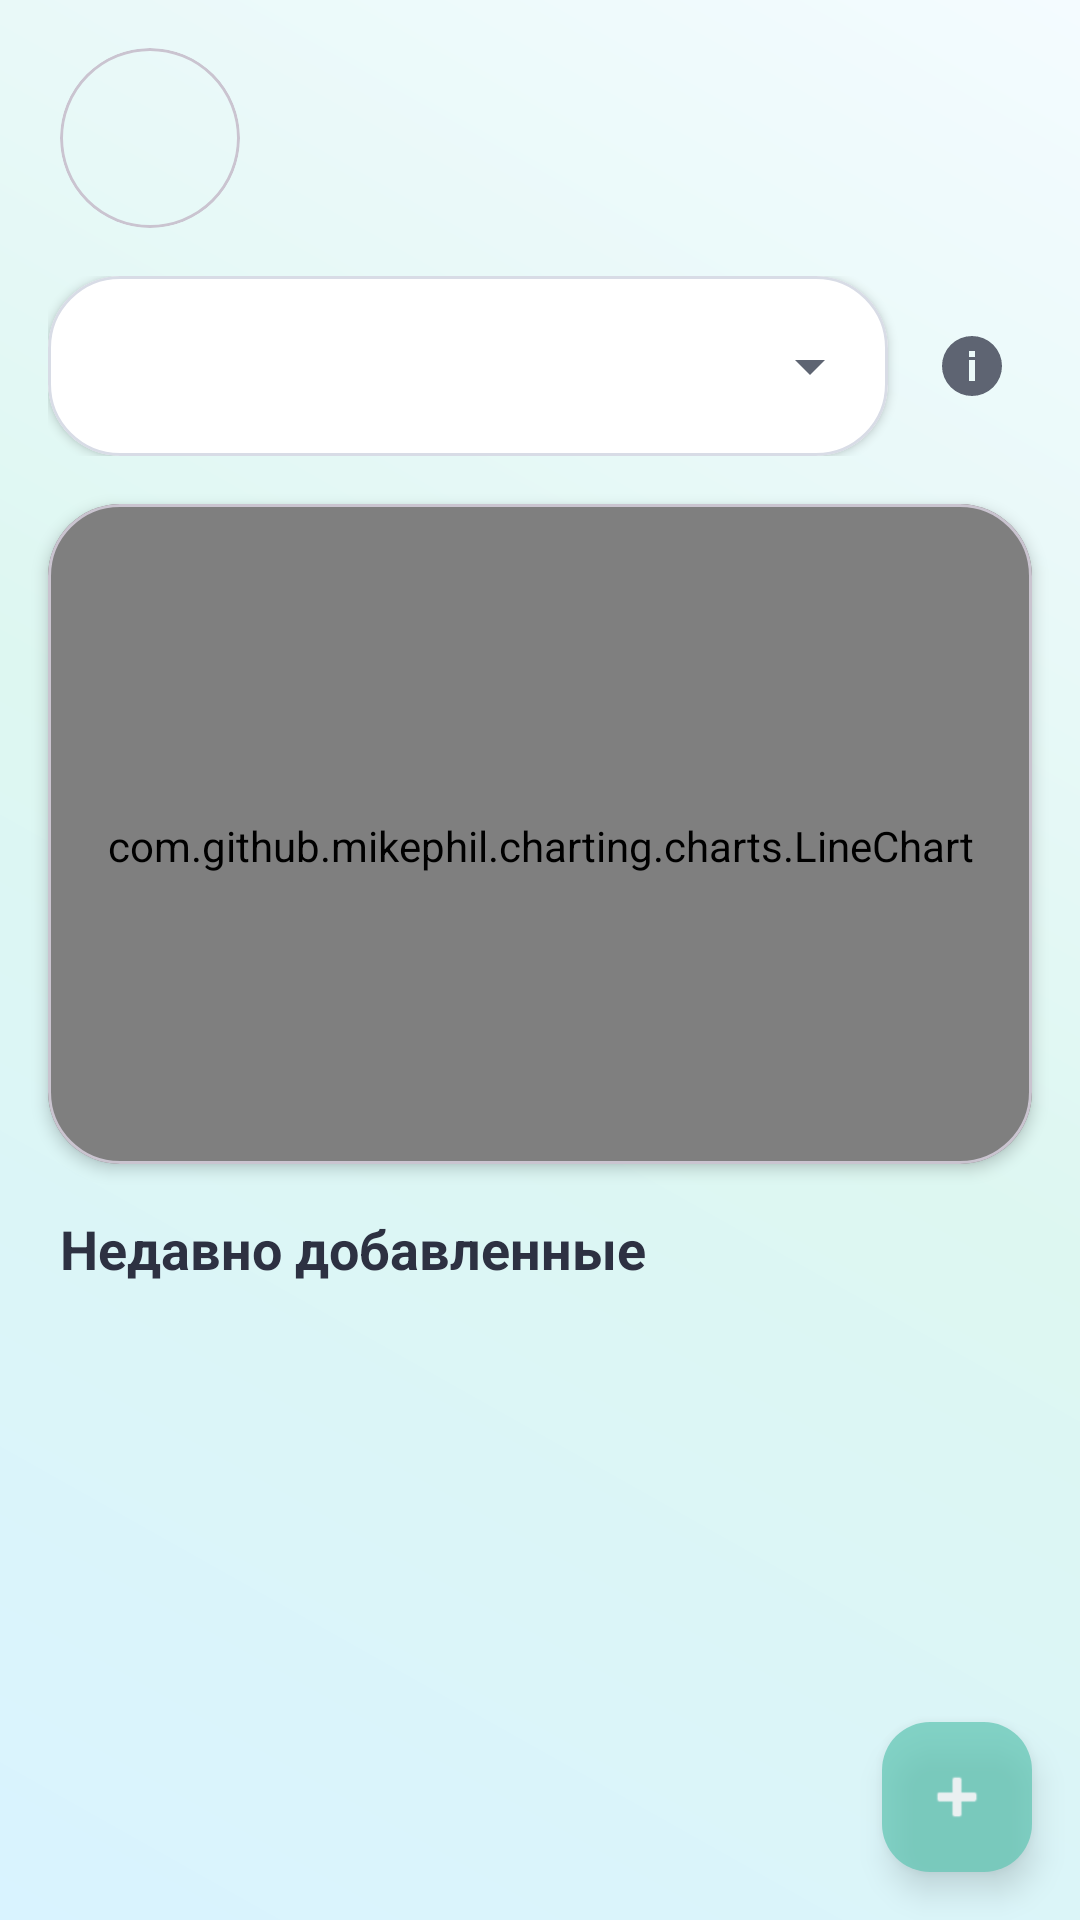

Where icons sit on this 1080 × 1920 app screen, as (x1, y1, x2, y2):
arrow drop down: (795, 360, 825, 375)
Добавить значение: (882, 1722, 1032, 1872)
Информация о параметре: (942, 336, 1002, 396)
